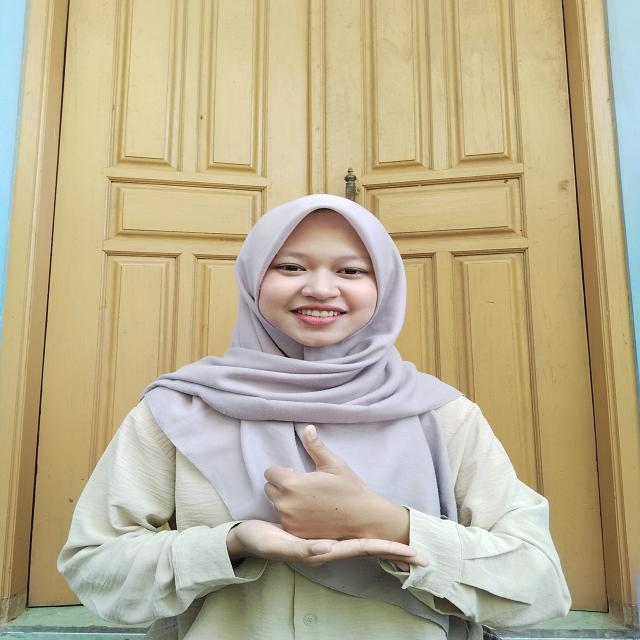cantik: (214, 408, 421, 583)
